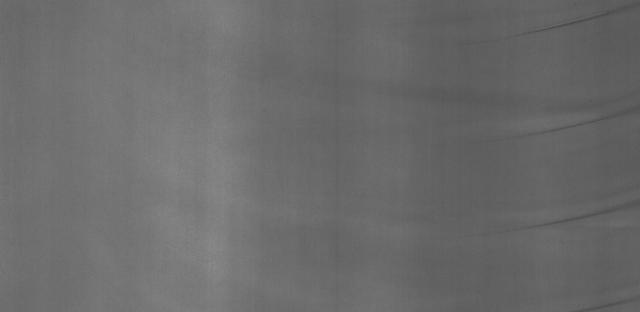crease: (480, 189, 640, 244), (471, 1, 640, 51), (475, 107, 640, 147)
